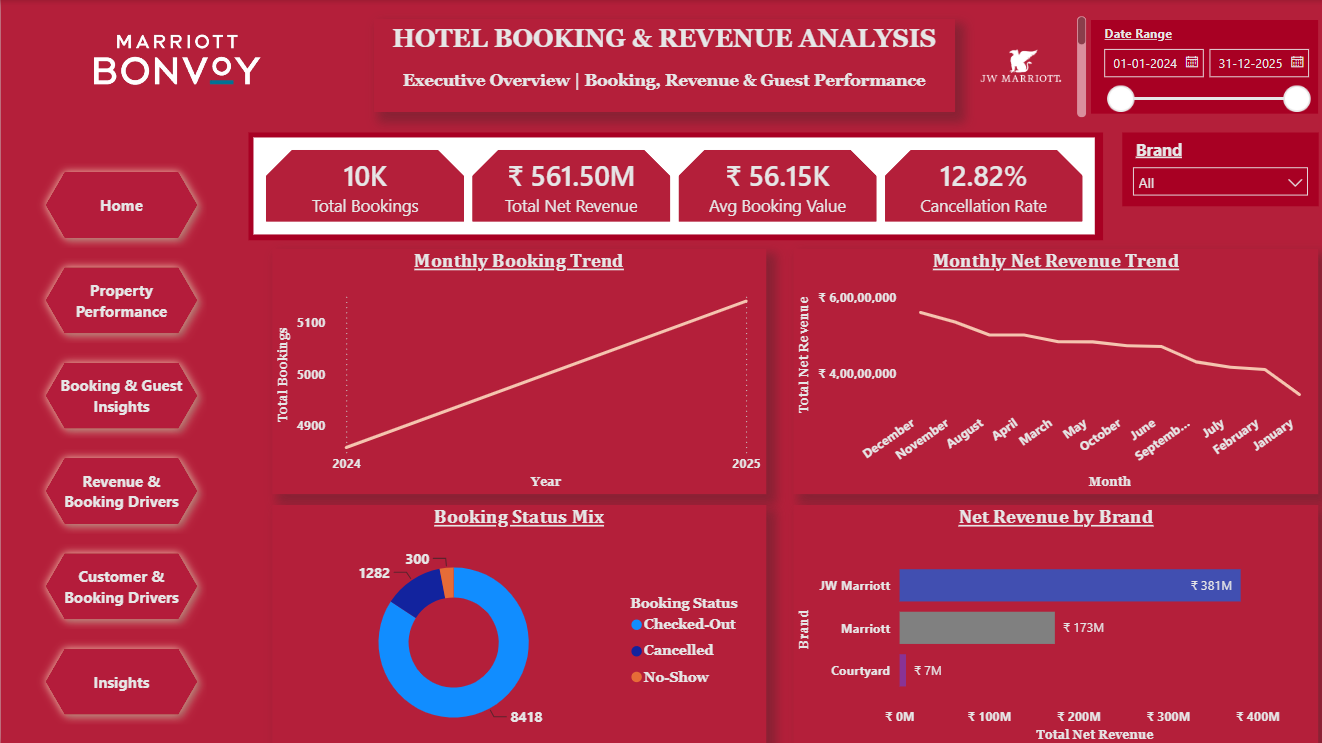

This screenshot's page, from the dashboard's own definition file:
{"tool":"powerbi","page":{"name":"Executive Overview","canvas":[1280,720],"ordinal":1},"visuals":[{"type":"textbox","box":[359.5,18.1,561,90.5],"z":0},{"type":"cardVisual","fields":{"Data":["_Measures.Total Bookings","_Measures.Total Net Revenue","_Measures.Average Booking Value","_Measures.Cancellation Rate"]},"box":[238.8,127.5,825,103.8],"z":1000},{"type":"lineChart","title":"Monthly Booking Trend","fields":{"Category":["Dim_Date.MonthYear.Variation.Date Hierarchy.Year","Dim_Date.MonthYear.Variation.Date Hierarchy.Quarter","Dim_Date.MonthYear.Variation.Date Hierarchy.Month"],"Y":["_Measures.Total Bookings"]},"box":[261.8,240.1,476.5,236.5],"z":2000},{"type":"lineChart","title":"Monthly Net Revenue Trend","fields":{"Y":["_Measures.Total Net Revenue"],"Category":["Dim_Date.MonthName"]},"box":[764.9,240.1,506.7,236.5],"z":3000},{"type":"donutChart","title":"Booking Status Mix","fields":{"Y":["_Measures.Total Bookings"],"Category":["Fact_Bookings.BookingStatus"]},"box":[261.8,487.4,476.5,232.8],"z":4000},{"type":"clusteredBarChart","title":"Net Revenue by Brand","fields":{"Category":["Dim_Properties.Brand"],"Y":["_Measures.Total Net Revenue"]},"box":[764.9,487.4,506.7,232.8],"z":5000},{"type":"slicer","fields":{"Values":["Dim_Date.FullDate"]},"box":[1052,19.3,219.6,90.5],"z":6000},{"type":"slicer","fields":{"Values":["BrandLogo.Brand"]},"box":[1082.2,127.9,189.4,71.2],"z":7000},{"type":"pageNavigator","box":[33.8,156.2,165,542.5],"z":8000},{"type":"image","box":[33.8,0,272.7,115.8],"z":9000},{"type":"tableEx","fields":{"Values":["BrandLogo.LogoURL"]},"box":[933.8,11.2,118.8,107.5],"z":10000}]}

Visuals, with their boxes in screenshot pixels (x1, y1, x2, y2), scaled from the page's 1280x720 canvas onto the 1322x743 screenshot:
textbox: rect(371, 19, 951, 112)
cardVisual - _Measures.Total Bookings x _Measures.Total Net Revenue: rect(247, 132, 1099, 239)
"Monthly Booking Trend" lineChart: rect(270, 248, 763, 492)
"Monthly Net Revenue Trend" lineChart: rect(790, 248, 1313, 492)
"Booking Status Mix" donutChart: rect(270, 503, 763, 742)
"Net Revenue by Brand" clusteredBarChart: rect(790, 503, 1313, 742)
slicer - Dim_Date.FullDate: rect(1087, 20, 1313, 113)
slicer - BrandLogo.Brand: rect(1118, 132, 1313, 205)
pageNavigator: rect(35, 161, 205, 721)
image: rect(35, 0, 317, 119)
tableEx - BrandLogo.LogoURL: rect(964, 12, 1087, 122)
